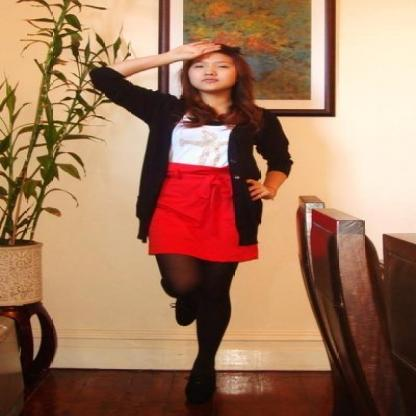jacket: (88, 63, 324, 246)
shirt: (169, 112, 231, 167)
shoe: (172, 296, 211, 404)
skirt: (137, 158, 257, 266)
